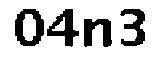0: (9, 5, 47, 51)
3: (117, 6, 148, 52)
4: (46, 6, 80, 51)
n: (82, 16, 113, 50)
